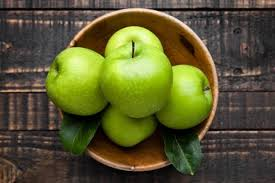apple: (104, 46, 173, 117), (155, 64, 213, 127), (50, 48, 107, 110), (98, 99, 157, 144), (103, 26, 167, 64)
